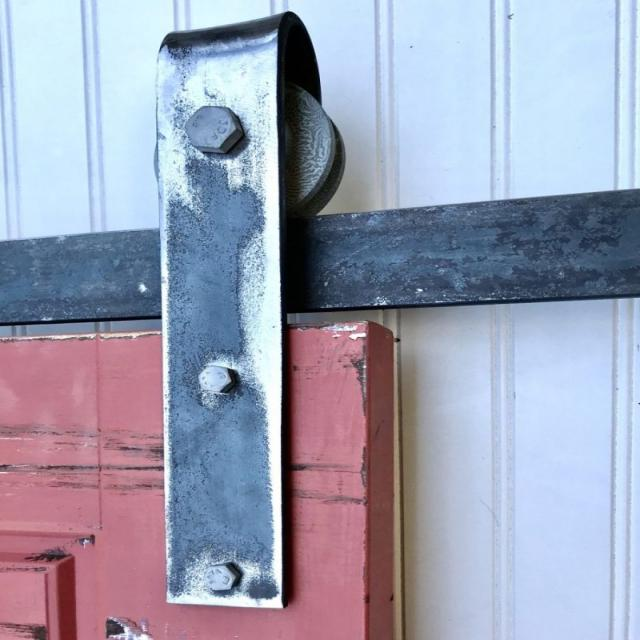bolt head: (177, 100, 245, 156), (200, 561, 244, 592), (197, 364, 239, 394)
